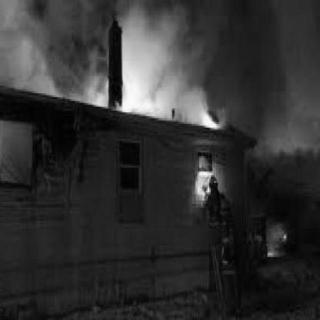Fire: (96, 54, 160, 116)
